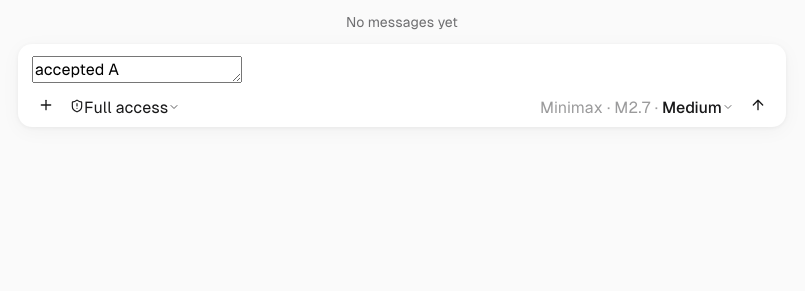
Scenario: ChatView › does not offer stale retry after an accepted failure followed by pre-start HTTP 401
Expected: the button "Minimax · M2.7 · Medium" is shown, [534, 96, 740, 119]
Click the button named "send".
click(758, 108)  # box [744, 96, 772, 119]
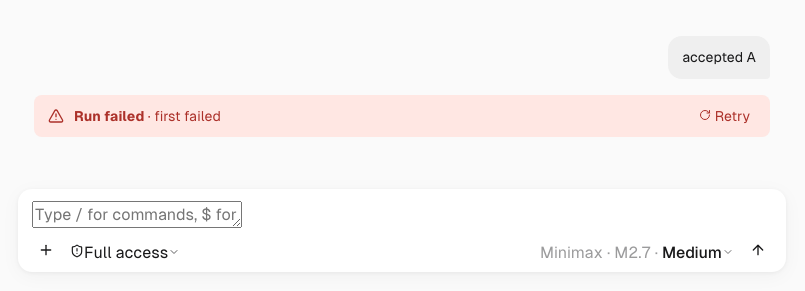
Expected: the text "Run failed · first failed" is shown, [74, 108, 221, 124]
Type "draft B" into the text box named "message".
click(137, 214); type("draft B")  # box [32, 201, 242, 228]
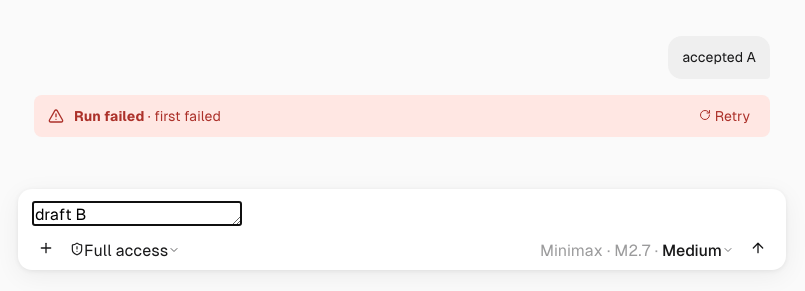
Click the button named "send".
click(758, 250)  # box [744, 239, 772, 262]
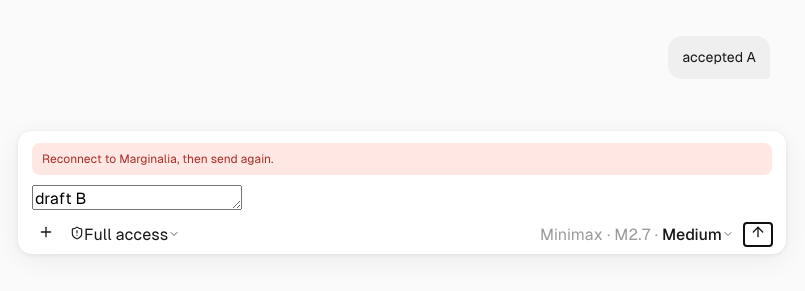
Expected: the message "Reconnect to Marginalia, then send again." is shown, [32, 143, 772, 175]
Expected: the button "Retry" is gone
